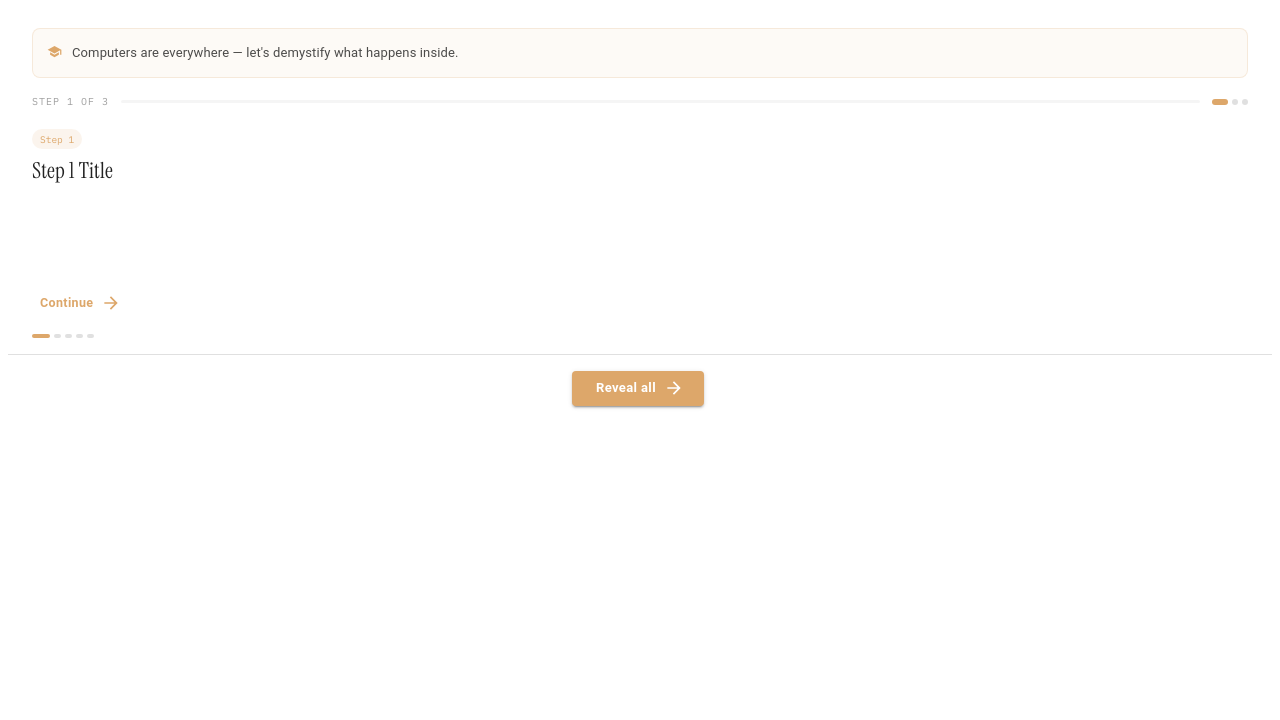
Test: UI/UX Expert › Reading phase layout › renders all five section labels
What coordinates should you click on to do the following:
click the button "Reveal all"
I would click on:
 (638, 388)
Its box is [572,371,704,406].
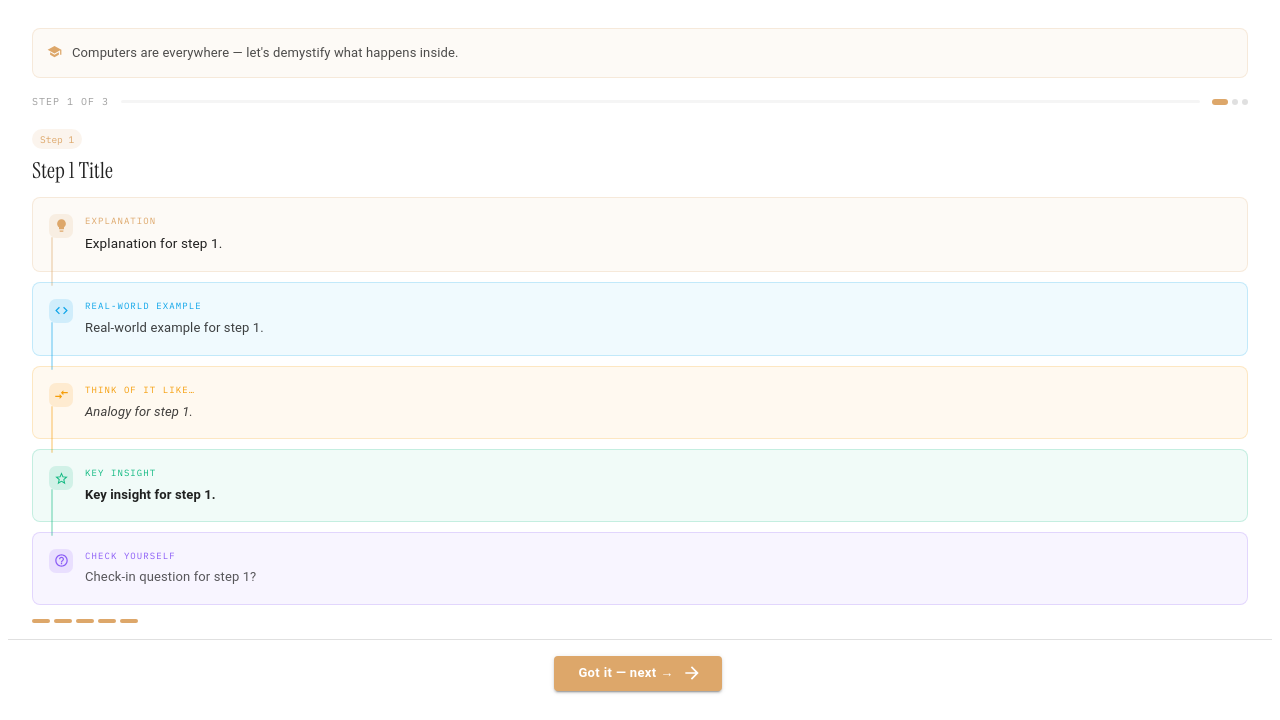
Expected: the text "Explanation" is shown, [85,215,156,226]
Expected: the text "Real-world example" is shown, [85,300,202,311]
Expected: the text "Think of it like…" is shown, [85,384,195,395]
